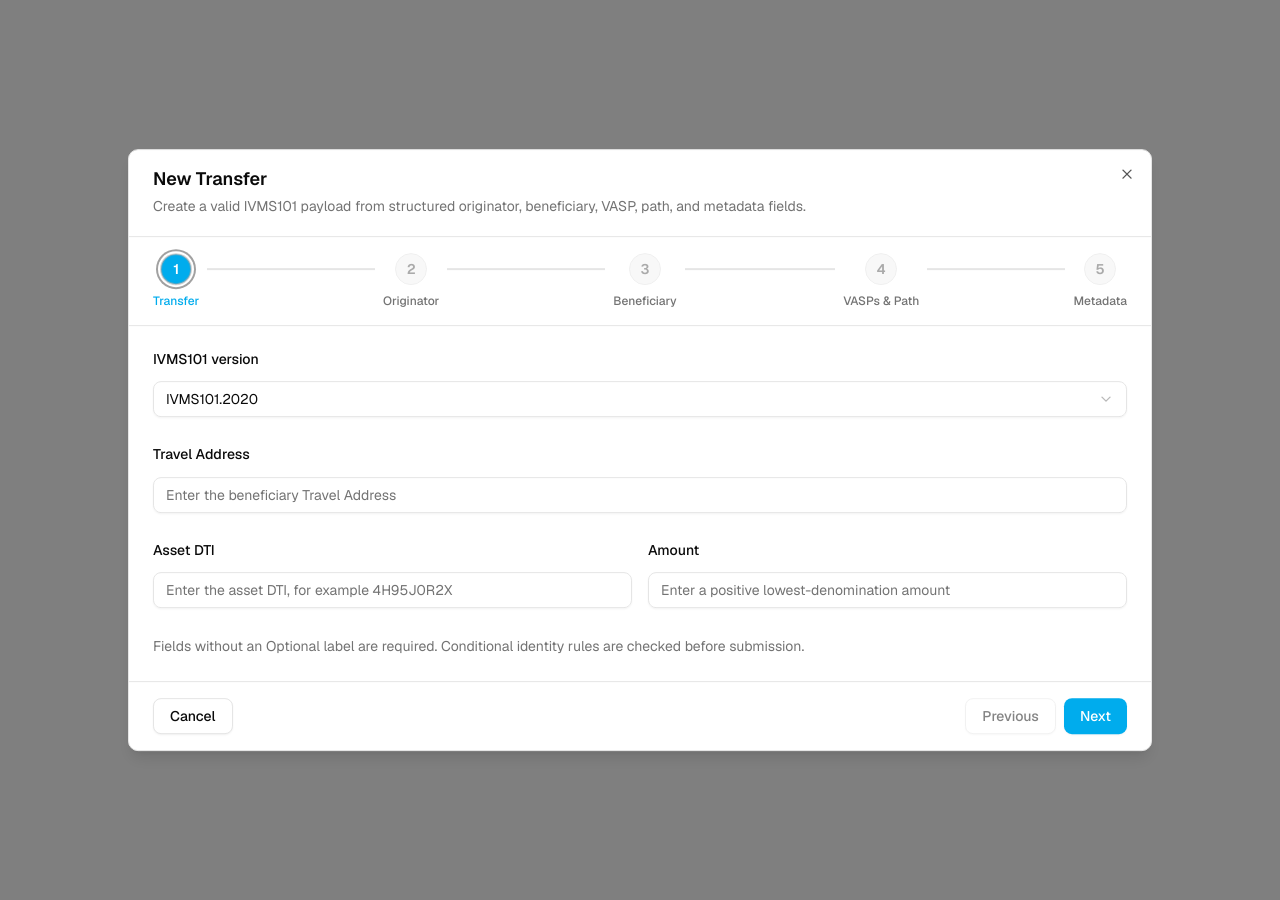
Test: keeps the birth section title and remove action in the same header row
Type "ta.example/address" into the field labelled "Travel Address".
click(640, 495); type("ta.example/address")  # box [153, 477, 1127, 513]
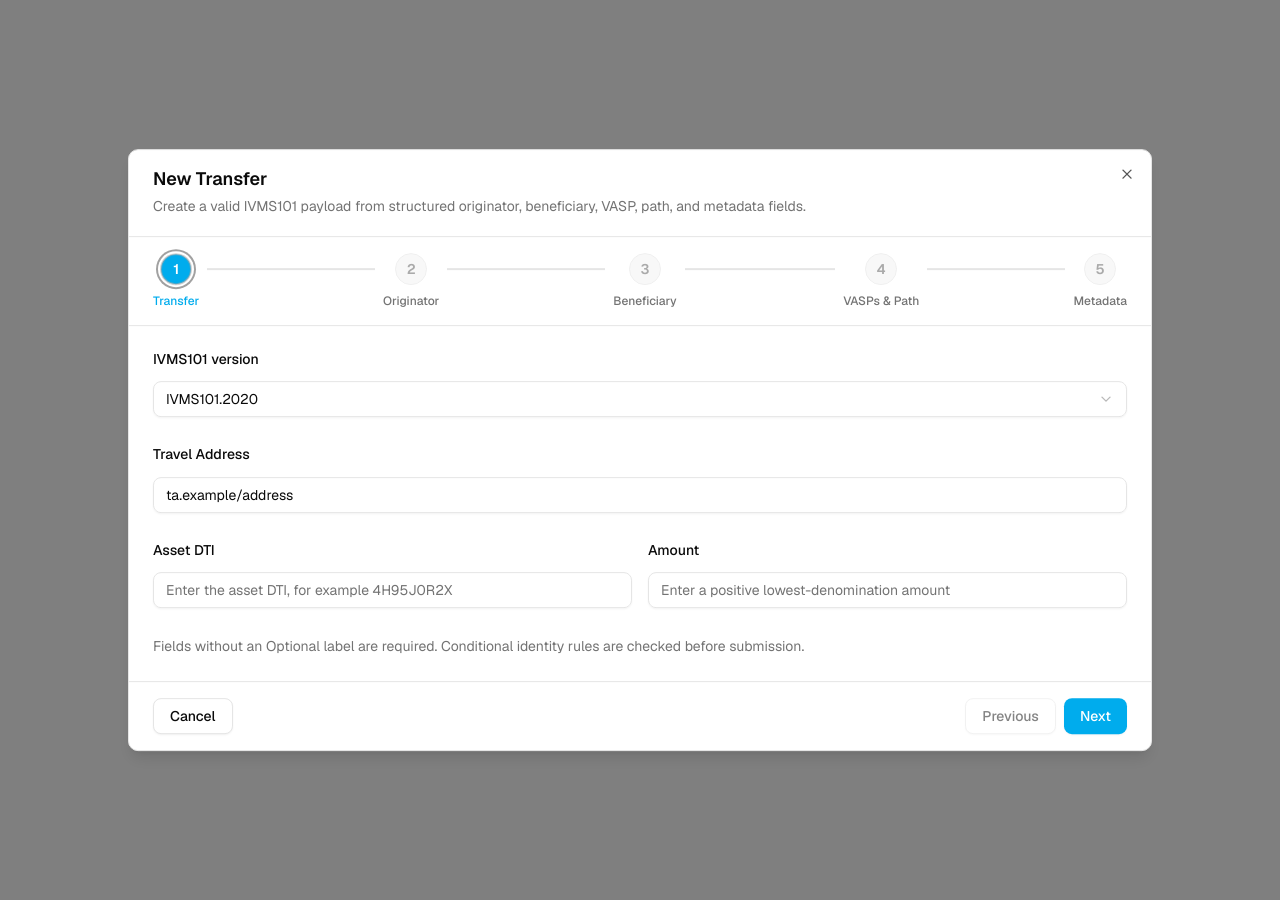
Type "4H95J0R2X" into the field labelled "Asset DTI".
click(392, 590); type("4H95J0R2X")  # box [153, 572, 632, 608]
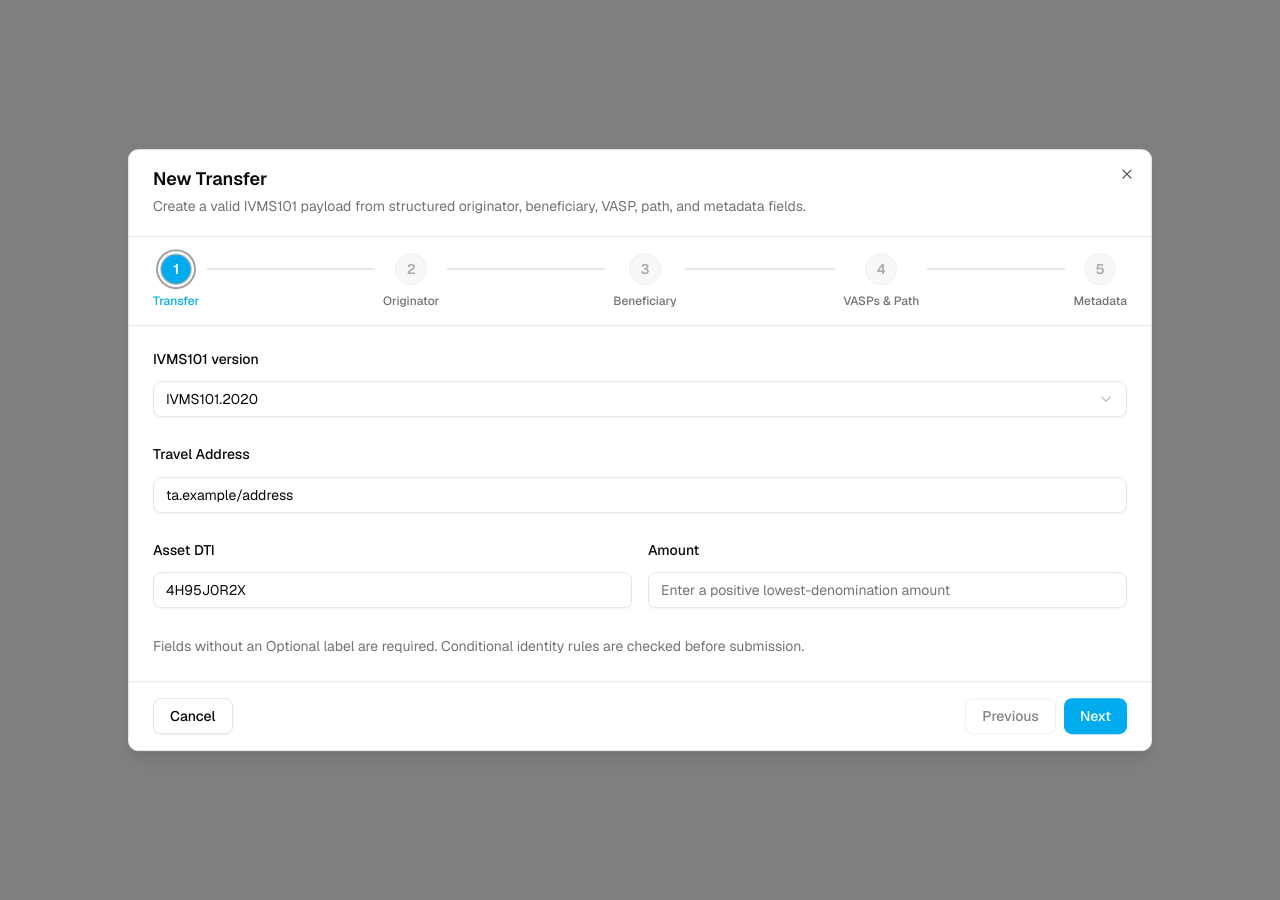
Type "25" into the field labelled "Amount".
click(888, 590); type("25")  # box [648, 572, 1127, 608]
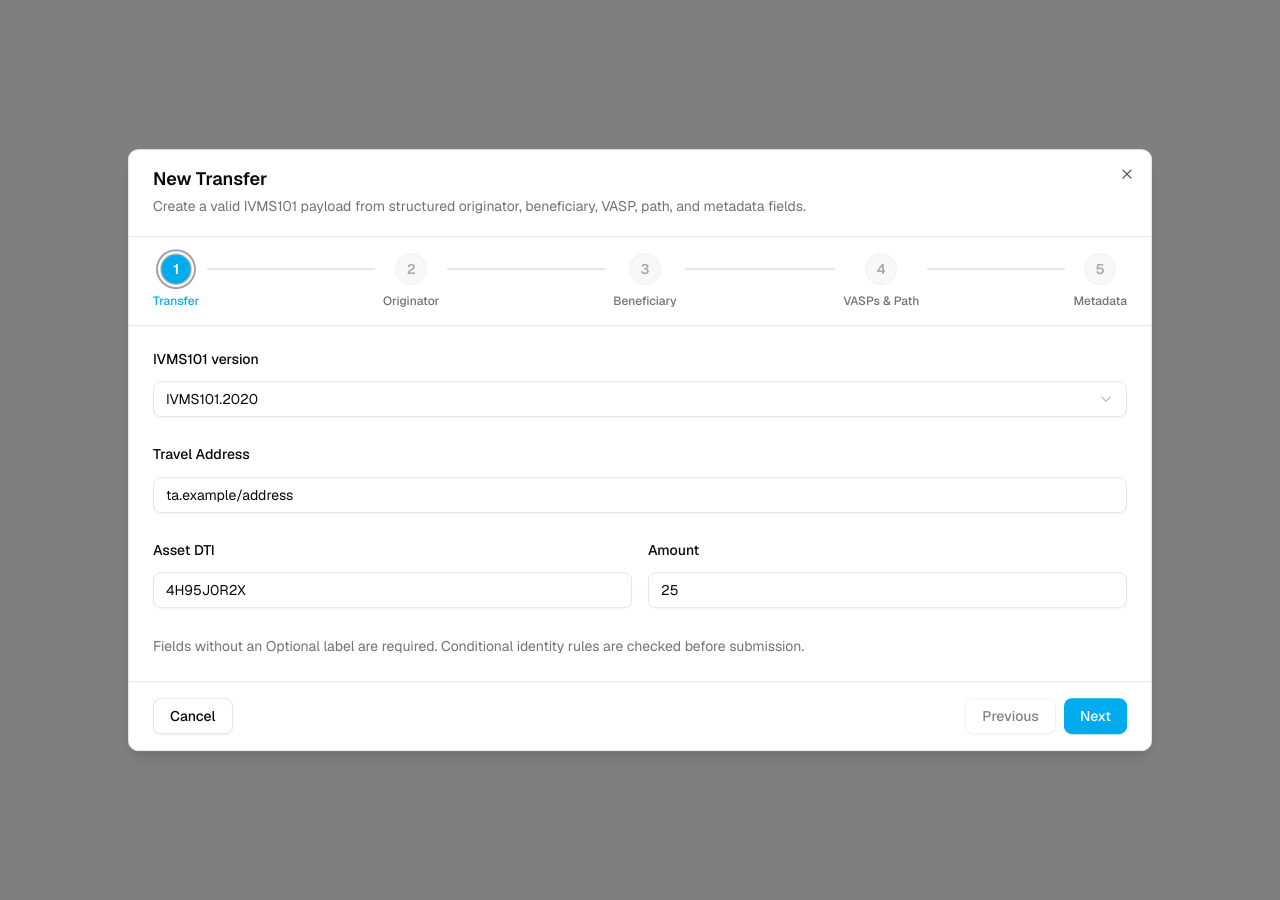
Click the button "Next".
click(1095, 716)  # box [1064, 698, 1127, 734]
(page scrolled)
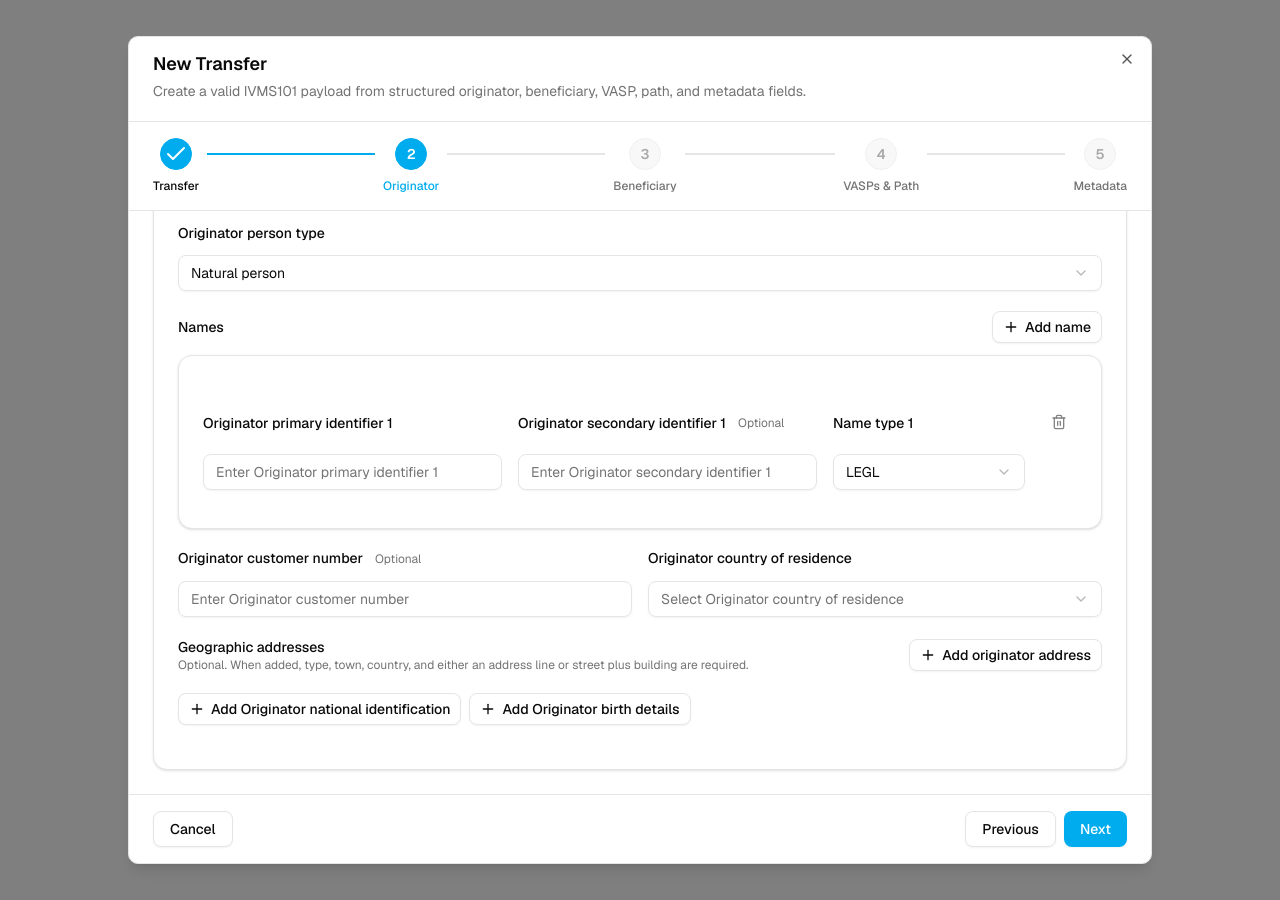
Click the button "Add Originator birth details".
click(580, 708)  # box [470, 692, 690, 724]
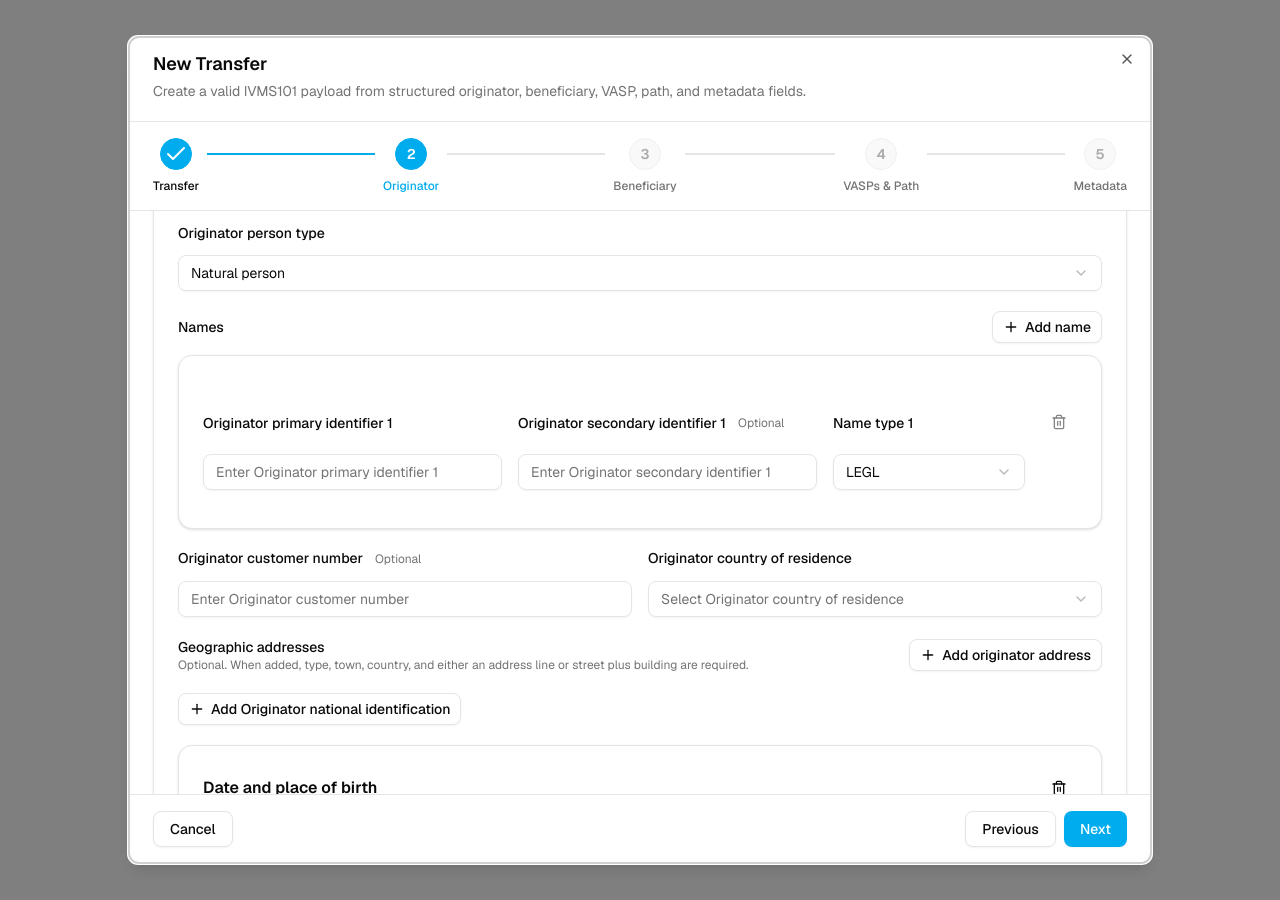
Now the button named "Remove Originator birth details" is shown, box [1041, 770, 1077, 794]
